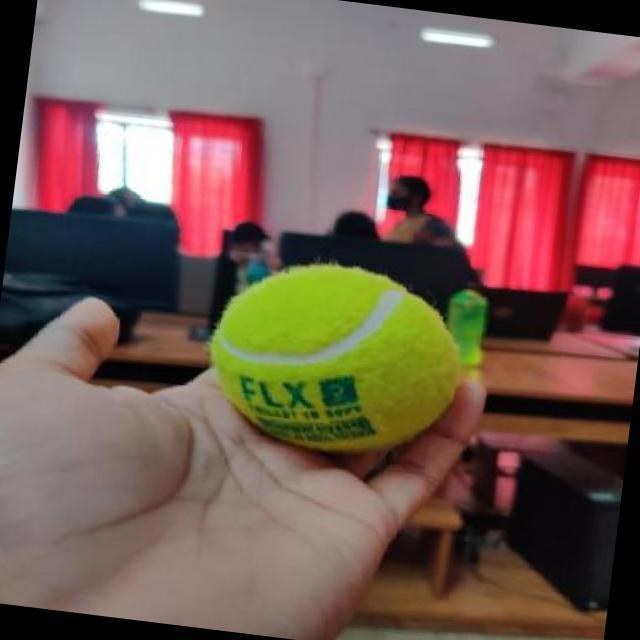-: (189, 240, 486, 466)
